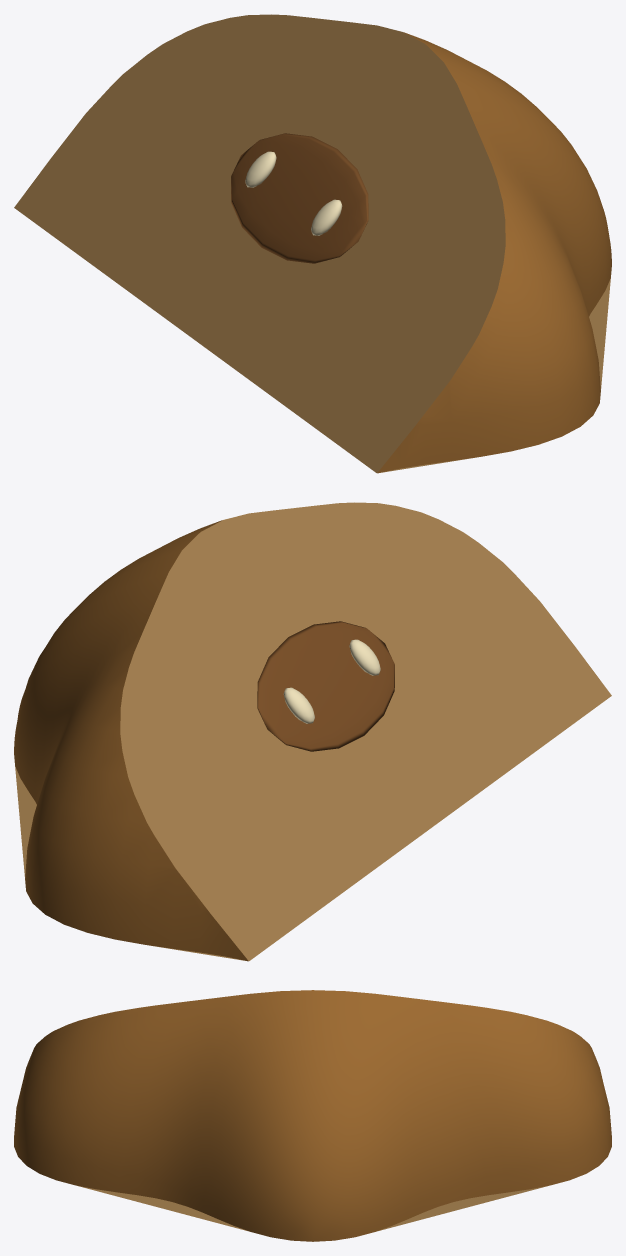
The model's file is event_rainbow_amber_chunk.glb.
The picture shows the model from 3 angles, top to bottom: view 1: azimuth 30°, elevation 25°; view 2: azimuth 150°, elevation 25°; view 3: azimuth 270°, elevation 25°; orthographic projection. The views are drawn at different scales.
Parts seen in each view (by area): view 1: amber archive amber heirloom skin / amber moist cut flesh / , amber archive amber seed chambers, amber archive Ivory archive seeds; view 2: amber archive amber heirloom skin / amber moist cut flesh / , amber archive amber seed chambers, amber archive Ivory archive seeds; view 3: amber archive amber heirloom skin / amber moist cut flesh / .
Part boxes in pixels (x1,y1,x2,y2): amber archive amber heirloom skin / amber moist cut flesh / : (14,14,611,473); amber archive amber seed chambers: (231,133,368,263); amber archive Ivory archive seeds: (245,151,342,235); amber archive amber heirloom skin / amber moist cut flesh / : (14,502,611,961); amber archive amber seed chambers: (257,621,394,751); amber archive Ivory archive seeds: (283,639,380,723); amber archive amber heirloom skin / amber moist cut flesh / : (14,990,611,1241).
Size of the model in its own units: 0.6696 by 0.3835 by 1.11.
